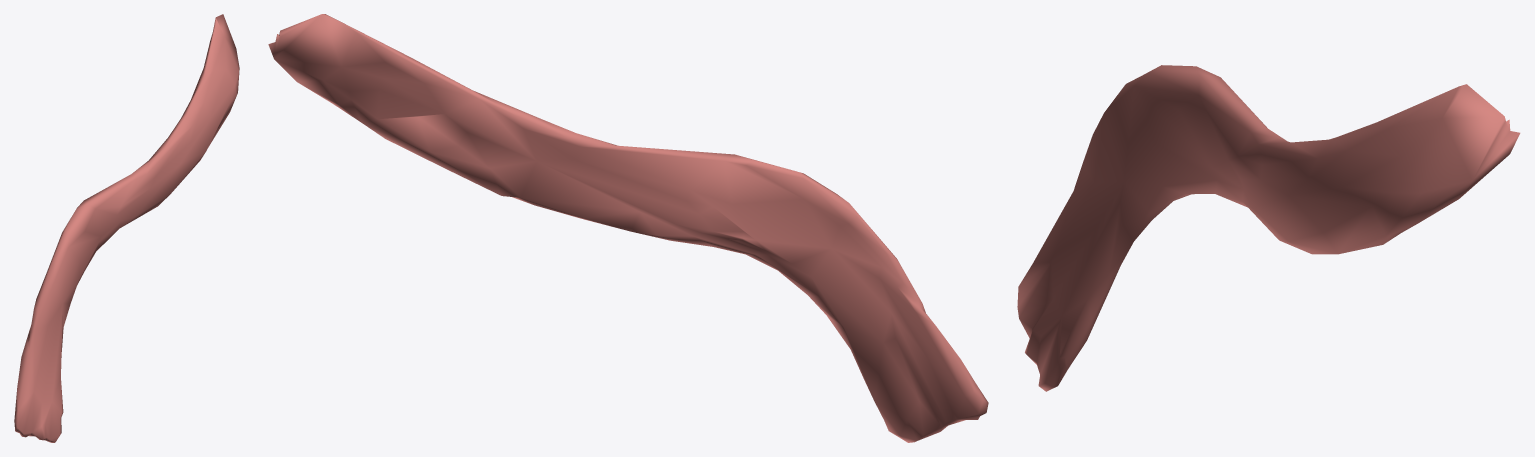
3 views of the same model, side by side, from view 1: azimuth 30°, elevation 25°; view 2: azimuth 150°, elevation 25°; view 3: azimuth 270°, elevation 25° (orthographic). The views are drawn at different scales.
Visible parts, largest first — view 1: ZA_f8eaf556698785da; view 2: ZA_f8eaf556698785da; view 3: ZA_f8eaf556698785da.
Boxes of the visible parts, <box> form: ZA_f8eaf556698785da: <box>14,14,239,442</box>; ZA_f8eaf556698785da: <box>268,14,988,442</box>; ZA_f8eaf556698785da: <box>1017,65,1520,391</box>.
Size of the model in its own units: 0.0376 by 0.0306 by 0.0246.
